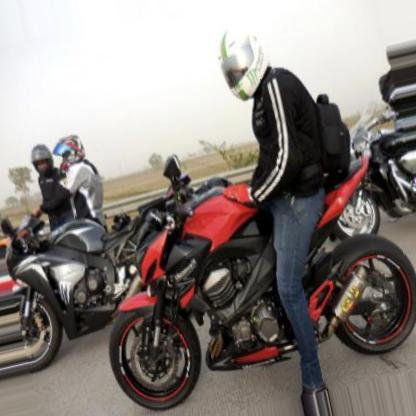with helmet: (218, 26, 270, 99), (53, 135, 86, 173), (32, 144, 53, 177)
